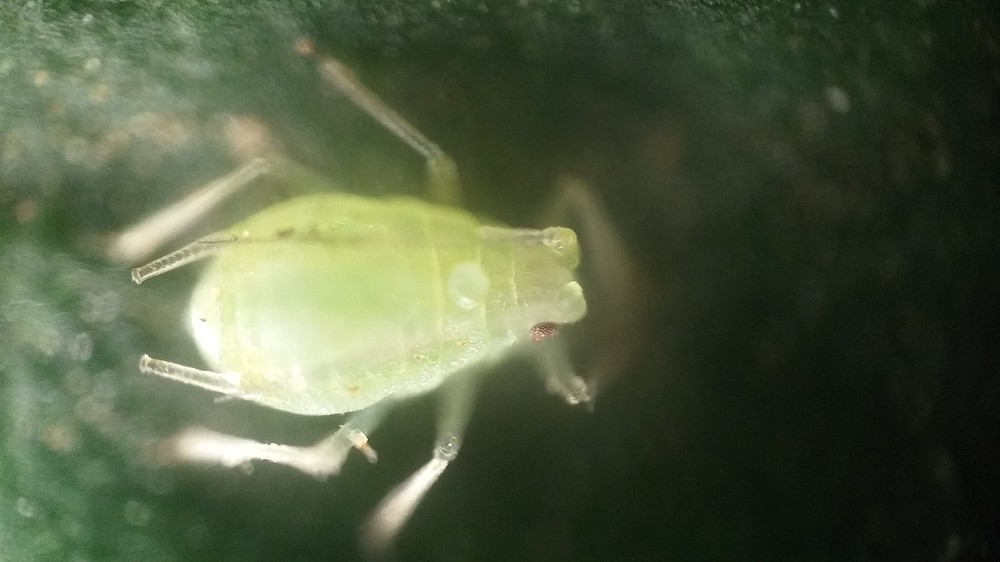Pulgon: (113, 54, 669, 553)
